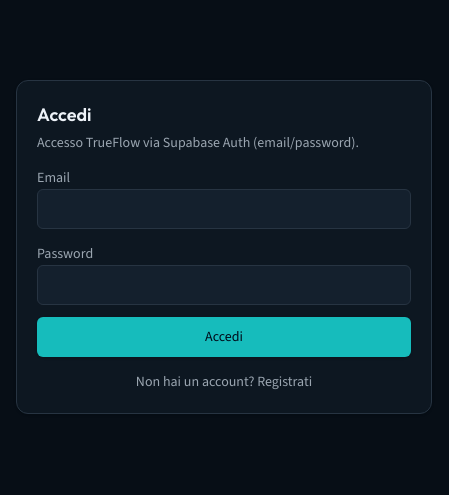
Test case: AuthPage › Signup valido: submit invoca servizio auth senza errori
This screenshot has width=449, height=495.
// Switch a modalità signup
Click the button "Non hai un account? Registrati". click: {"x": 224, "y": 382}
box: x1=37 y1=372 x2=411 y2=392
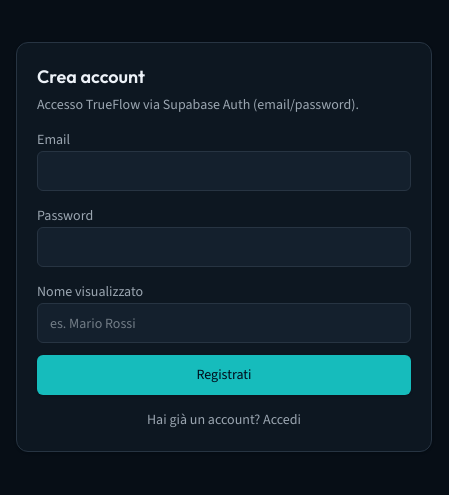
Type "new@example.com" into the field labelled "Email". click: {"x": 224, "y": 171}
box: x1=37 y1=151 x2=411 y2=191
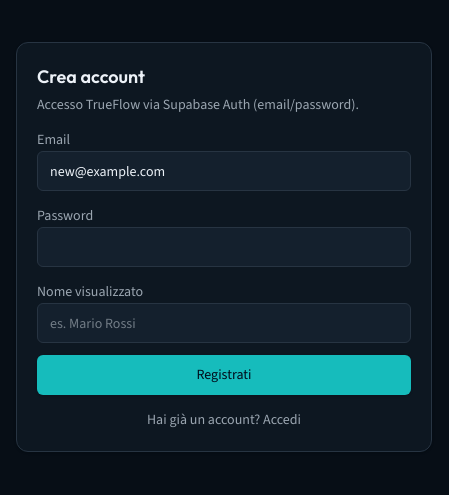
Type "password123" into the password field labelled "Password". click: {"x": 224, "y": 247}
box: x1=37 y1=227 x2=411 y2=267
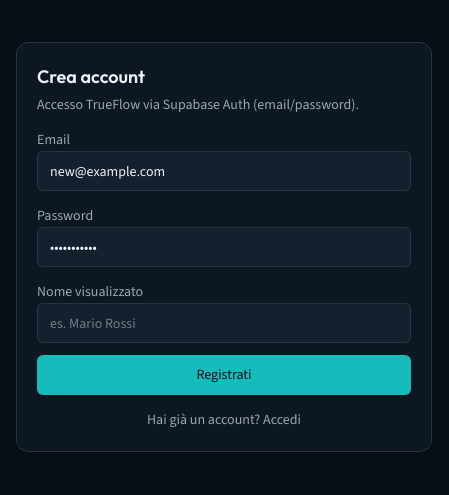
Type "Mario Rossi" into the field labelled "Nome visualizzato". click: {"x": 224, "y": 323}
box: x1=37 y1=303 x2=411 y2=343
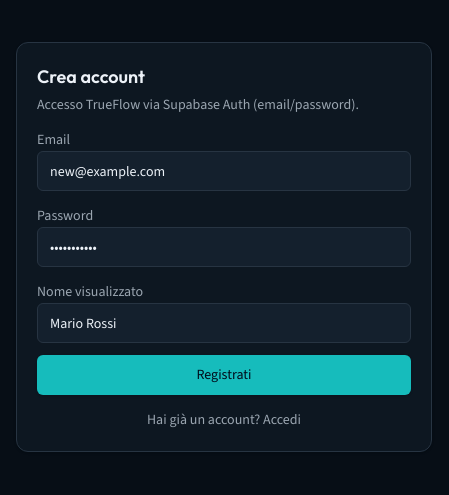
Click the button "Registrati". click: {"x": 224, "y": 375}
box: x1=37 y1=355 x2=411 y2=395
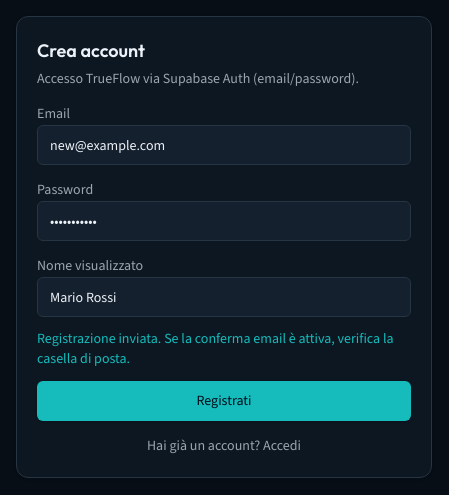
Expected: the message shows "Registrazione inviata", x1=37 y1=329 x2=394 y2=368
